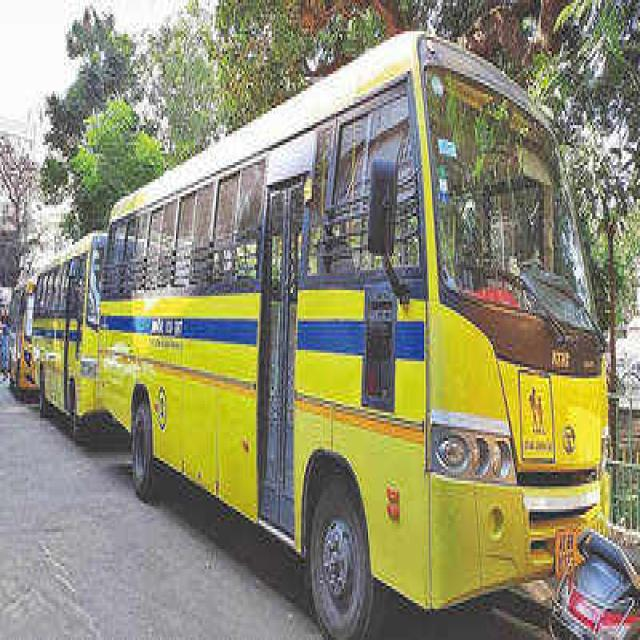bus: (99, 33, 609, 637)
